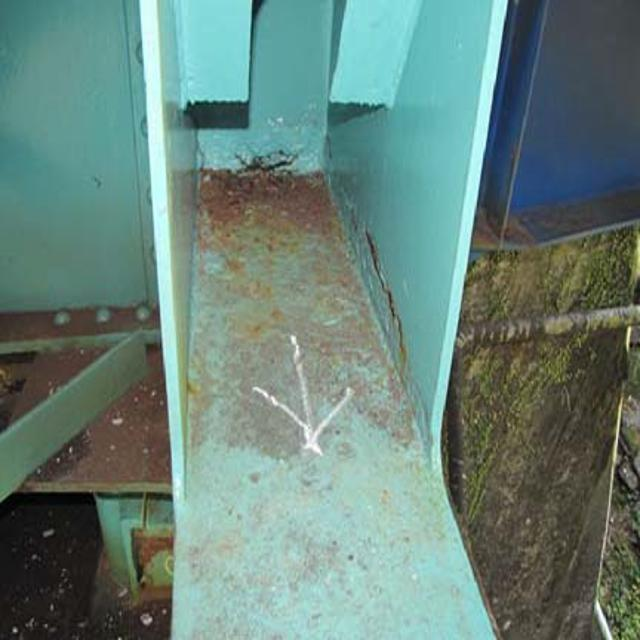corrosion: (187, 148, 407, 452)
